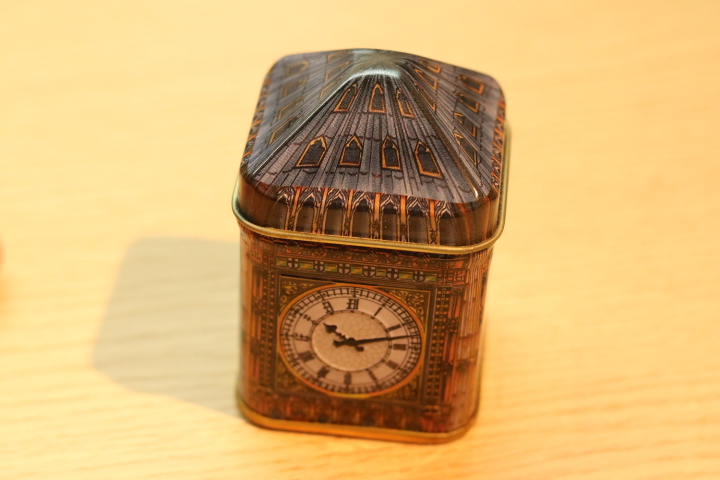Big Ben: (213, 38, 531, 453)
